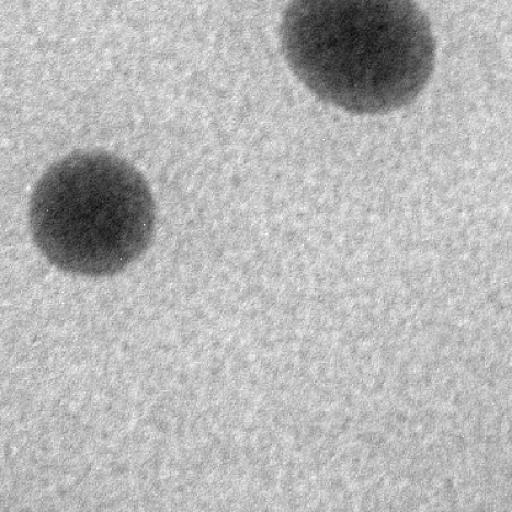Nanoparticles: (273, 0, 443, 117), (27, 146, 154, 277)
